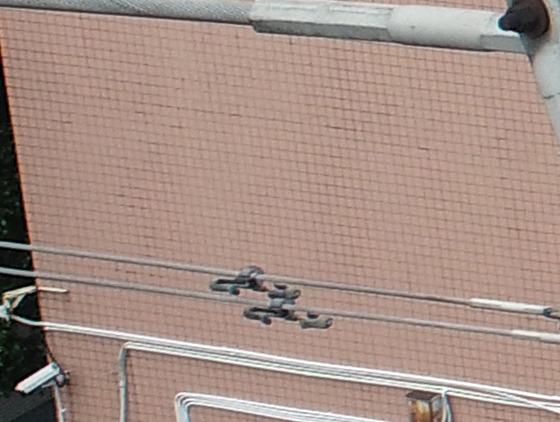damper: (205, 263, 300, 297), (242, 297, 333, 331)
